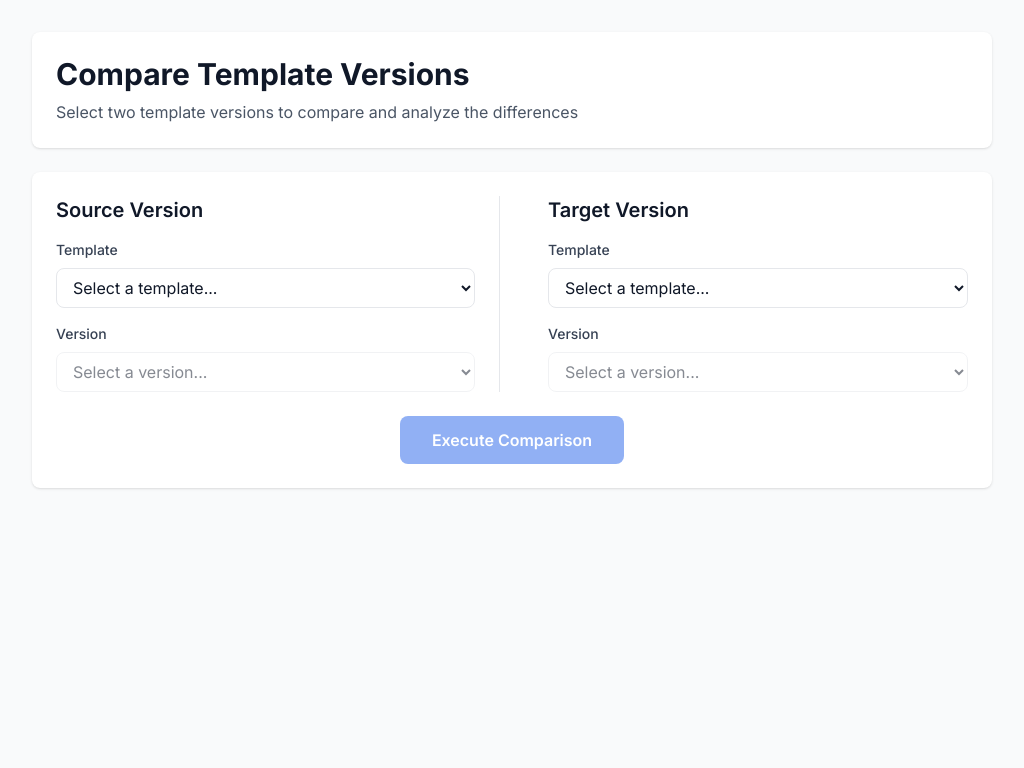
Scenario: CreateComparisonPage › Comparison Execution › should show loading state during comparison
Select "Template A" in the dropdown named "Select source template" at (266, 288), box [56, 268, 475, 308]
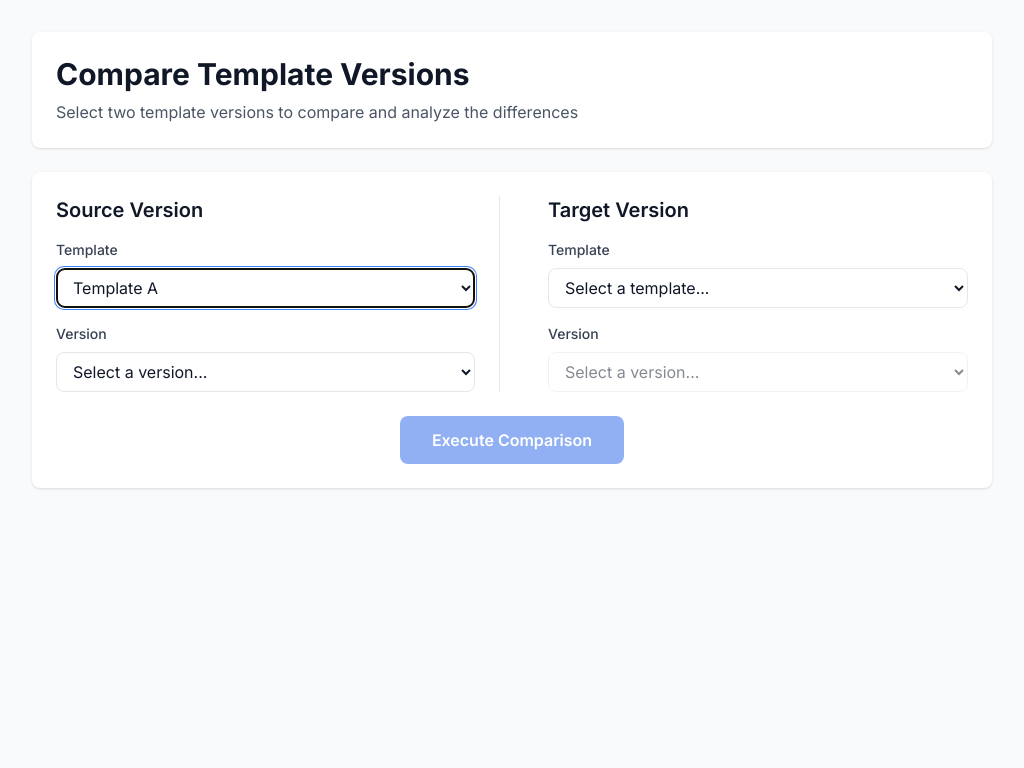
Select "Template A" in the dropdown named "Select target template" at (758, 288), box [548, 268, 968, 308]
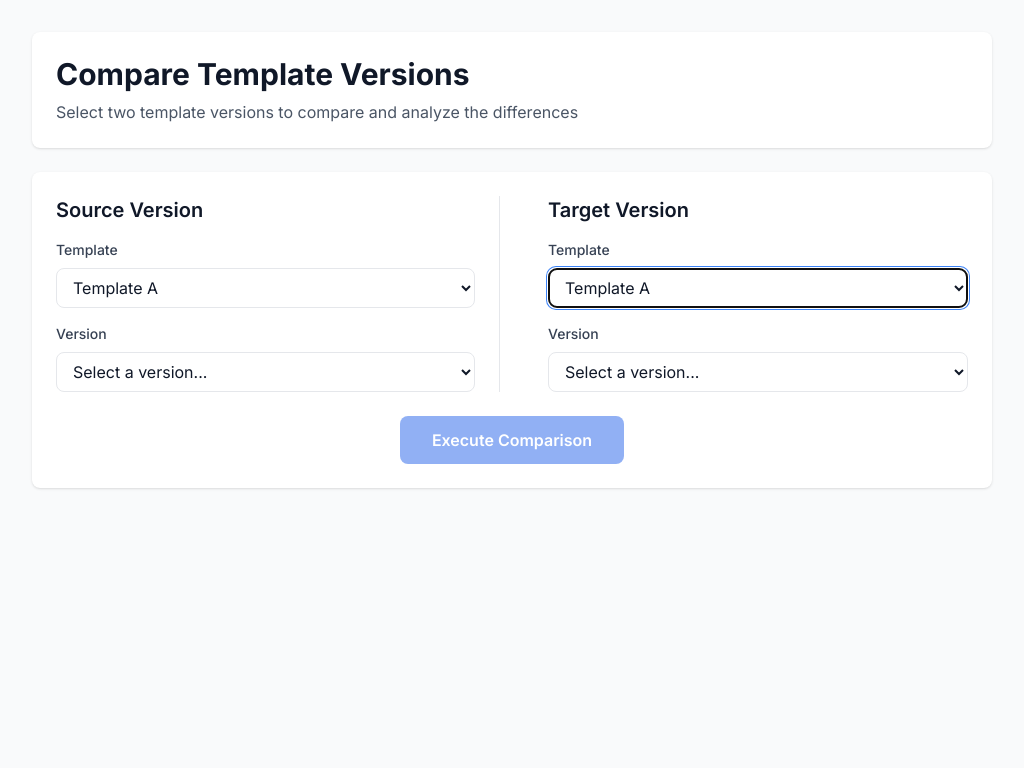
Now the dropdown named "Select source version" is enabled
Select "2024-Q1 (Current)" in the dropdown named "Select source version" at (266, 372), box [56, 352, 475, 392]
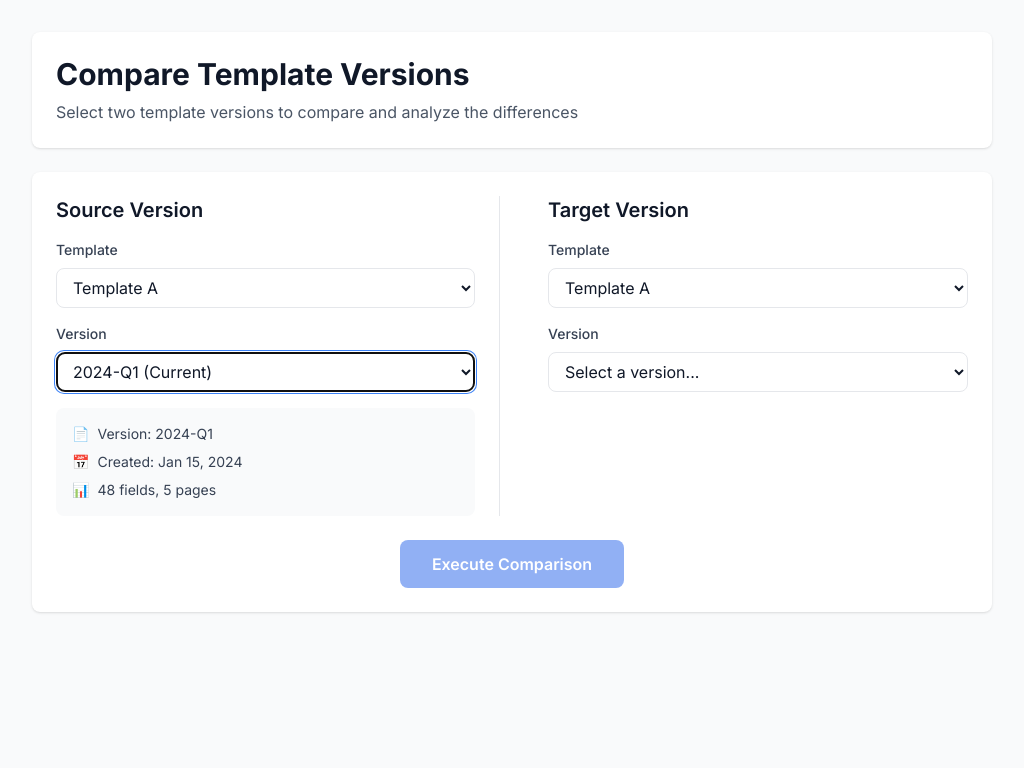
Select "2024-Q2" in the dropdown named "Select target version" at (758, 372), box [548, 352, 968, 392]
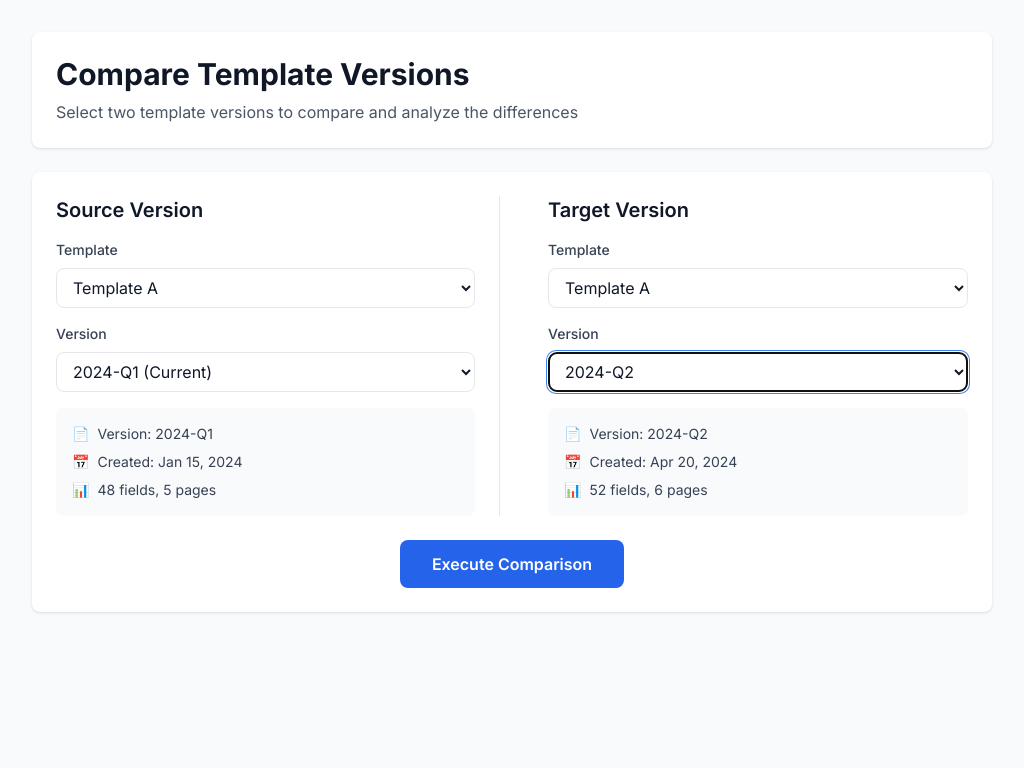
Execute comparison
Click the button labelled "Execute Comparison" at (512, 564), box [400, 540, 624, 588]
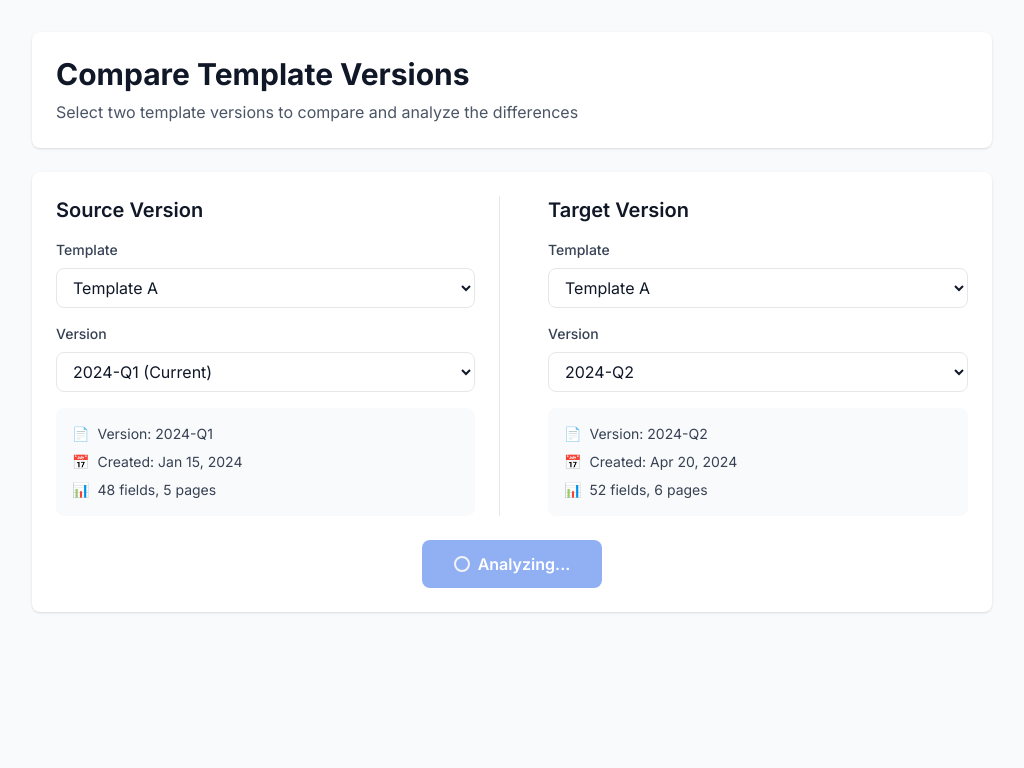
Now the text "Analyzing..." is shown, box [454, 552, 570, 576]
Now the button with aria-label "Execute comparison" is disabled, box [422, 540, 602, 588]
